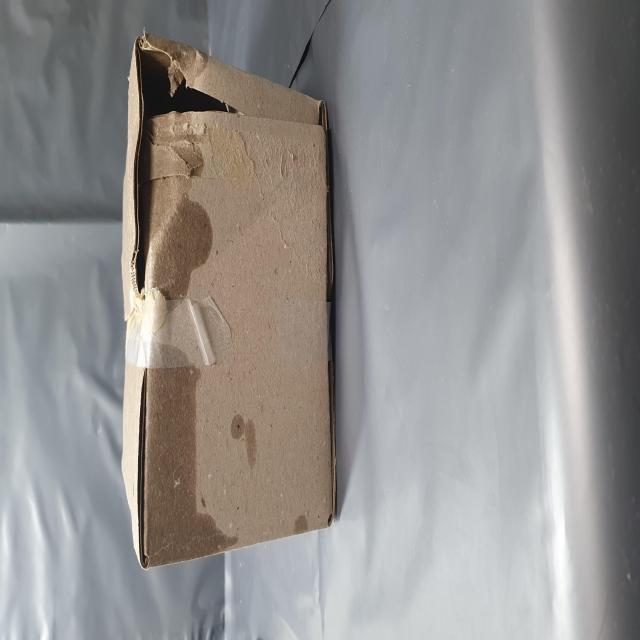wet: (50, 231, 246, 413)
